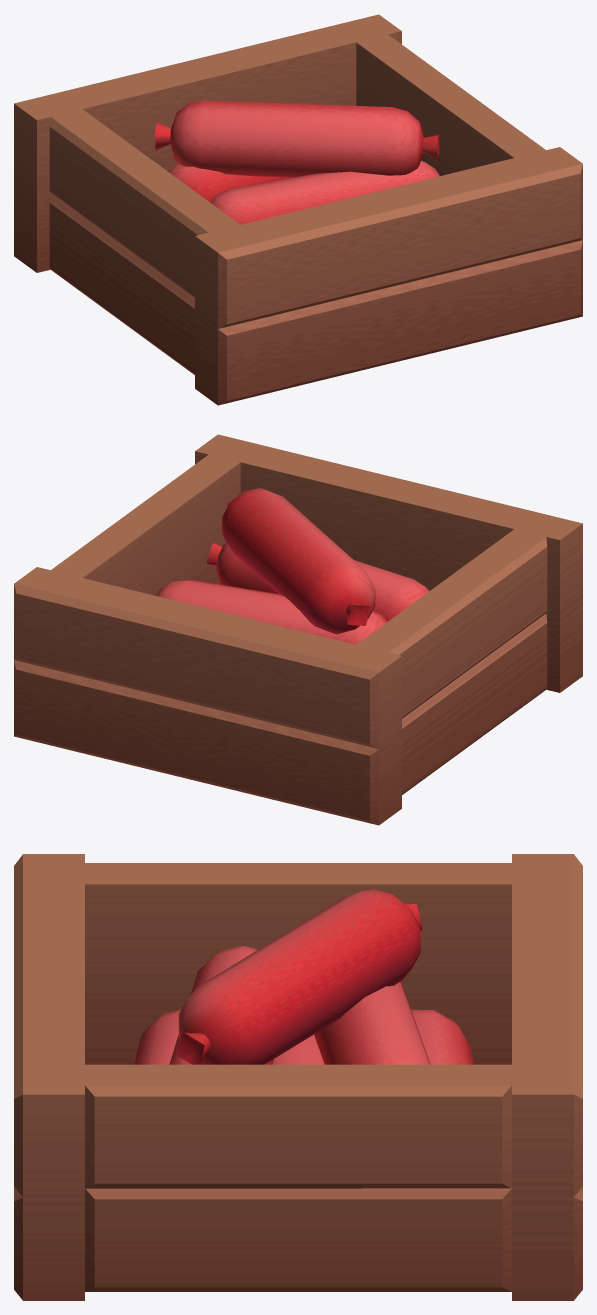
File: crate_pepperoni.gltf
3 views of the same model, one above another, from view 1: azimuth 30°, elevation 25°; view 2: azimuth 150°, elevation 25°; view 3: azimuth 270°, elevation 25° (orthographic). The views are drawn at different scales.
Visible parts, largest first — view 1: crate_pepperoni; view 2: crate_pepperoni; view 3: crate_pepperoni.
Part boxes in pixels (x1,y1,x2,y2): crate_pepperoni: [14, 14, 582, 405]; crate_pepperoni: [14, 434, 582, 825]; crate_pepperoni: [14, 854, 582, 1300].
Size of the model in its own units: 2 by 0.9352 by 2.
1 material, 1 textured.
